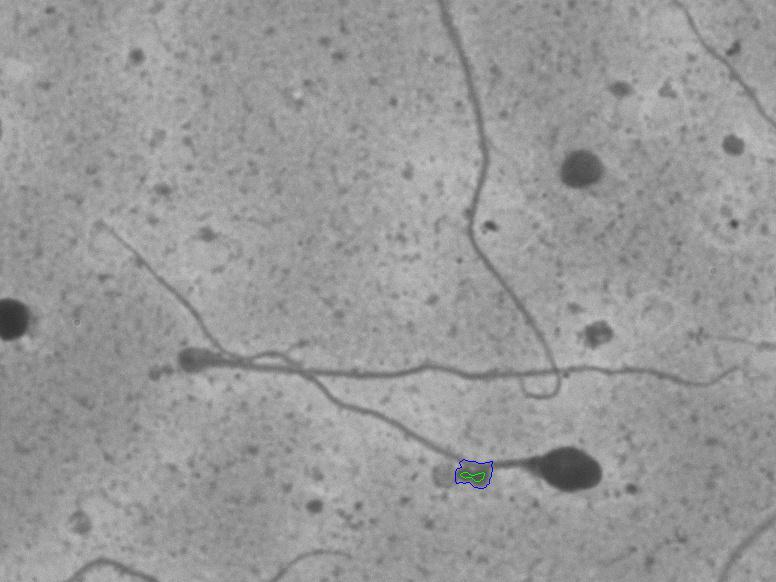Normal: (72, 201, 626, 519)
